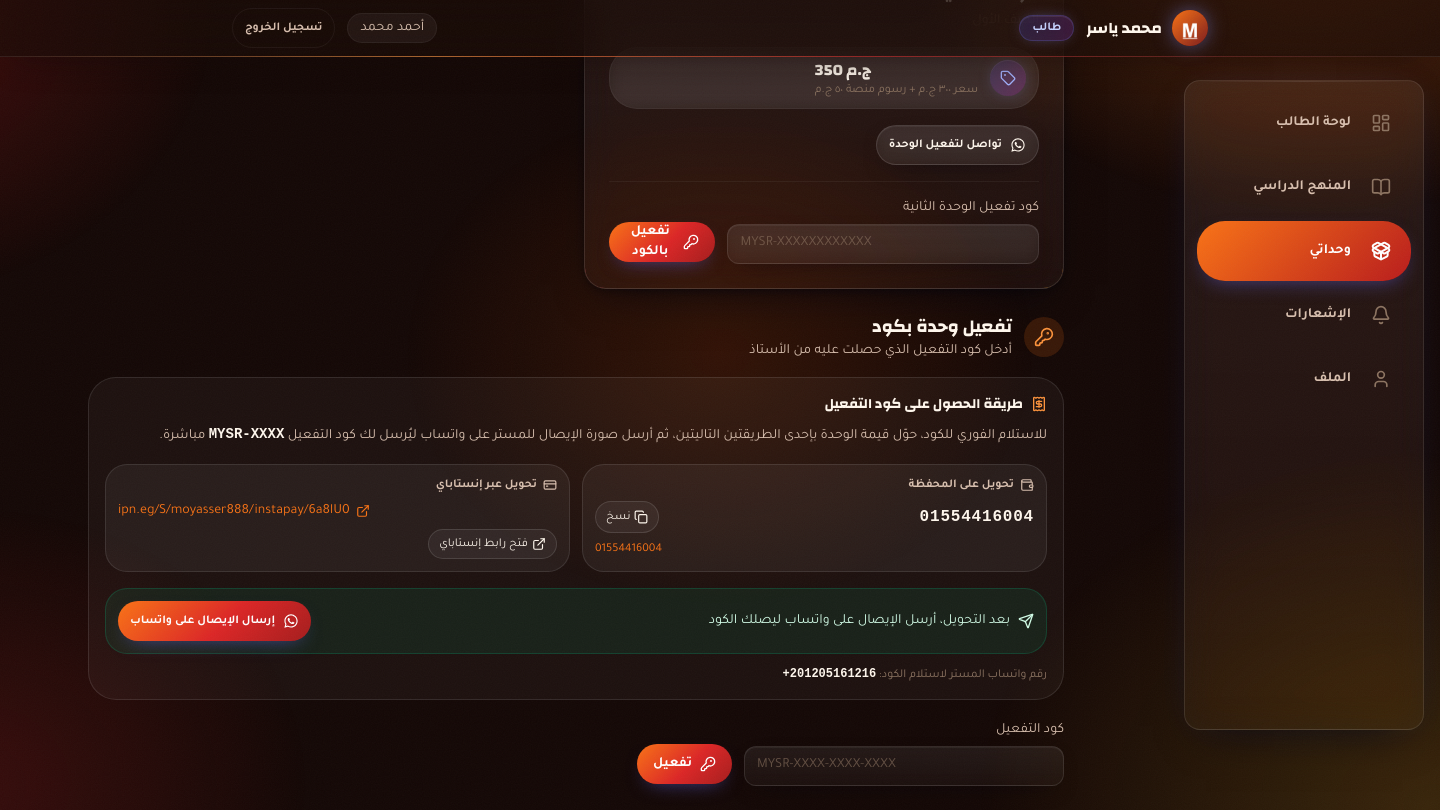
Test: UnitsPage › shows a clear error when redeeming an invalid code
(page scrolled)
Type "MYSR-BAD-CODE-0000" into the field labelled "كود التفعيل" at [904, 766], box [744, 746, 1064, 786]
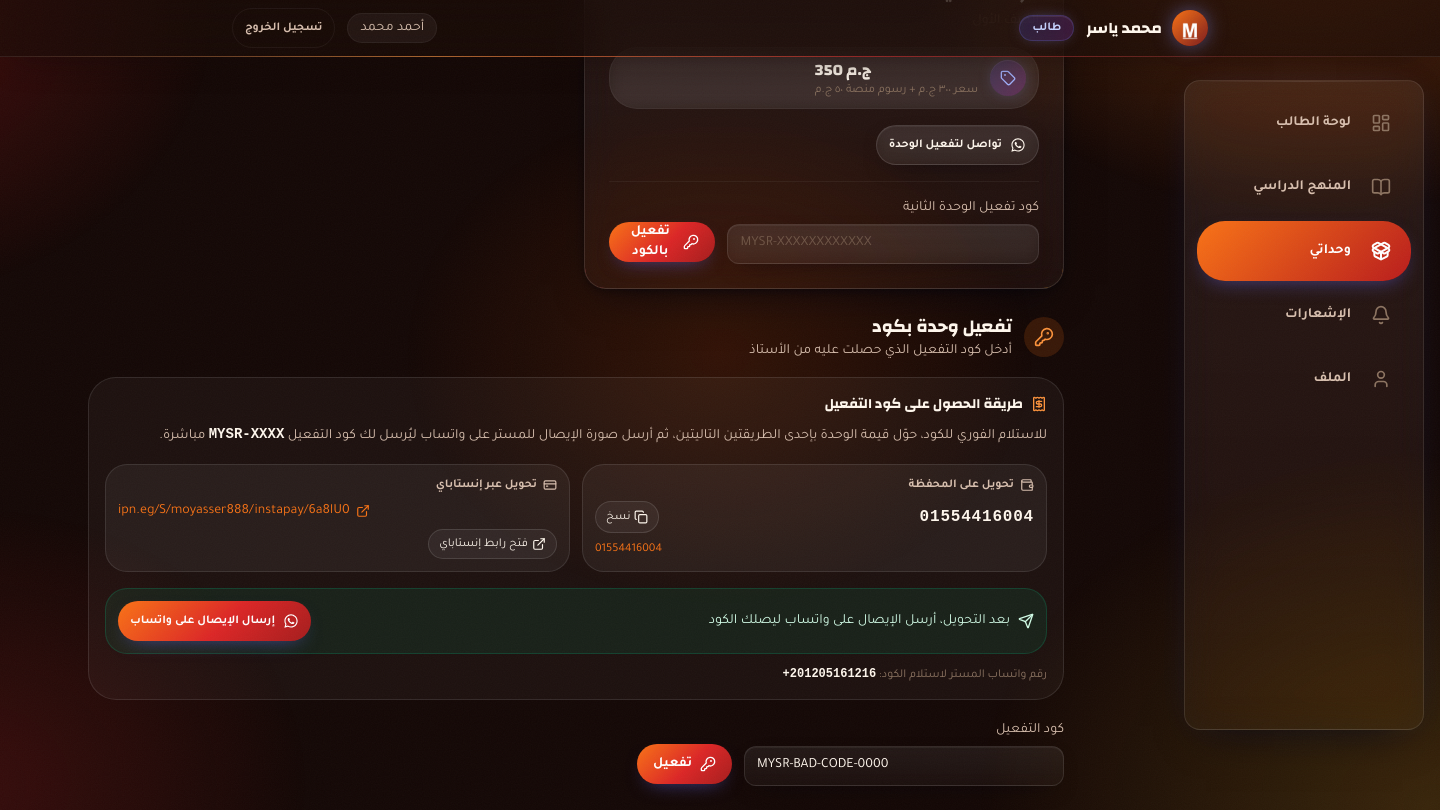
Click the button "تفعيل" at [684, 764], box [637, 744, 732, 784]
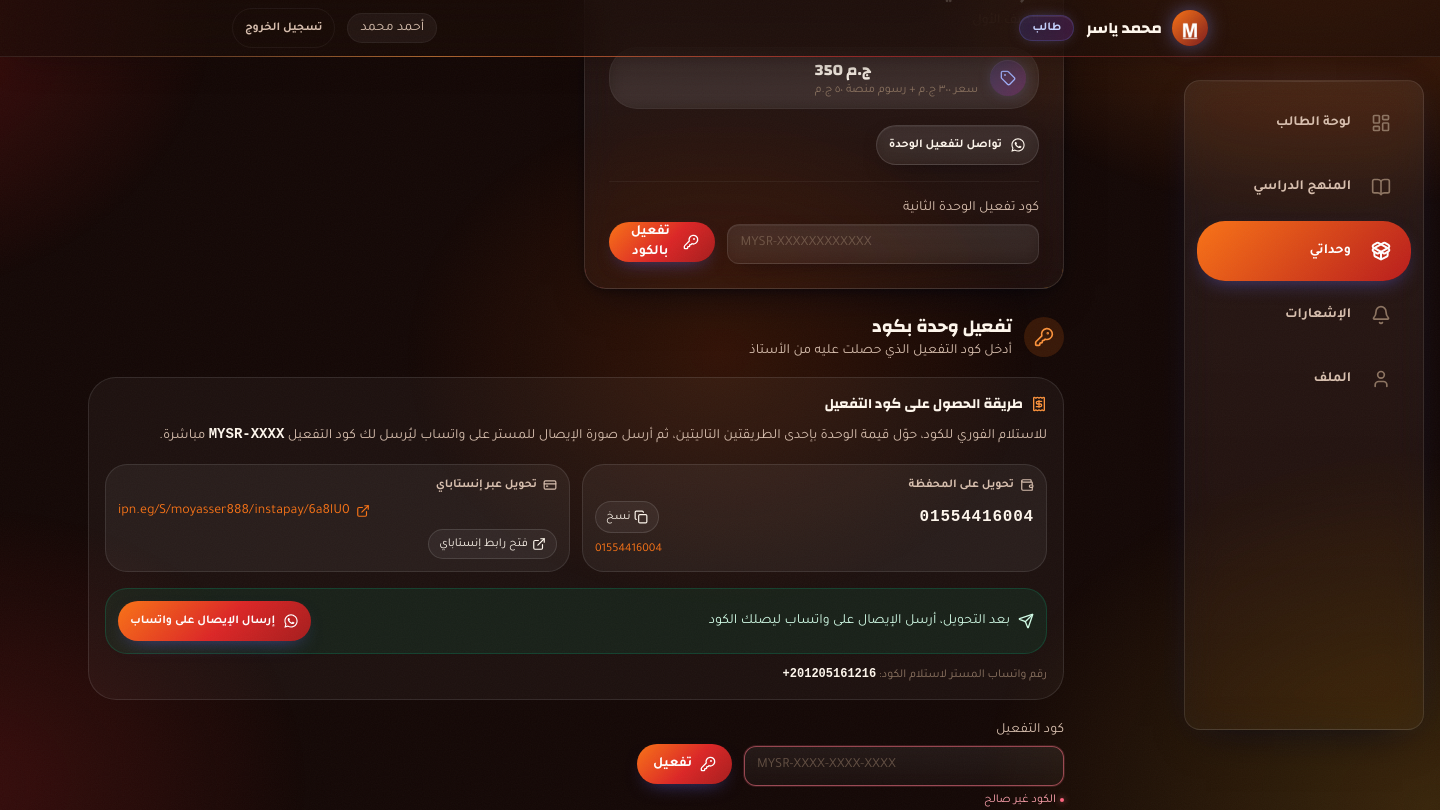
Expected: the text "الكود غير صالح" is shown, [984, 794, 1064, 806]
